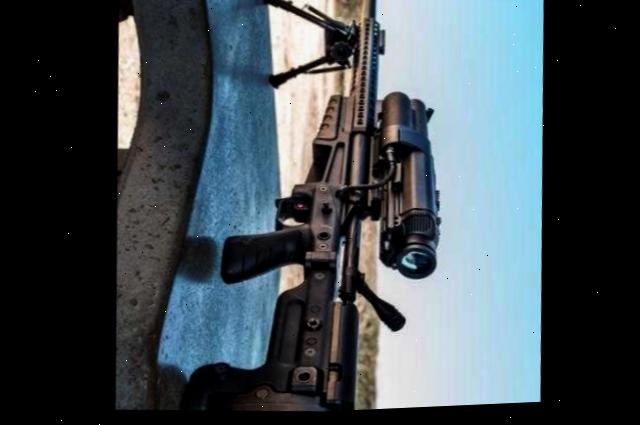rifle: (189, 0, 492, 418)
